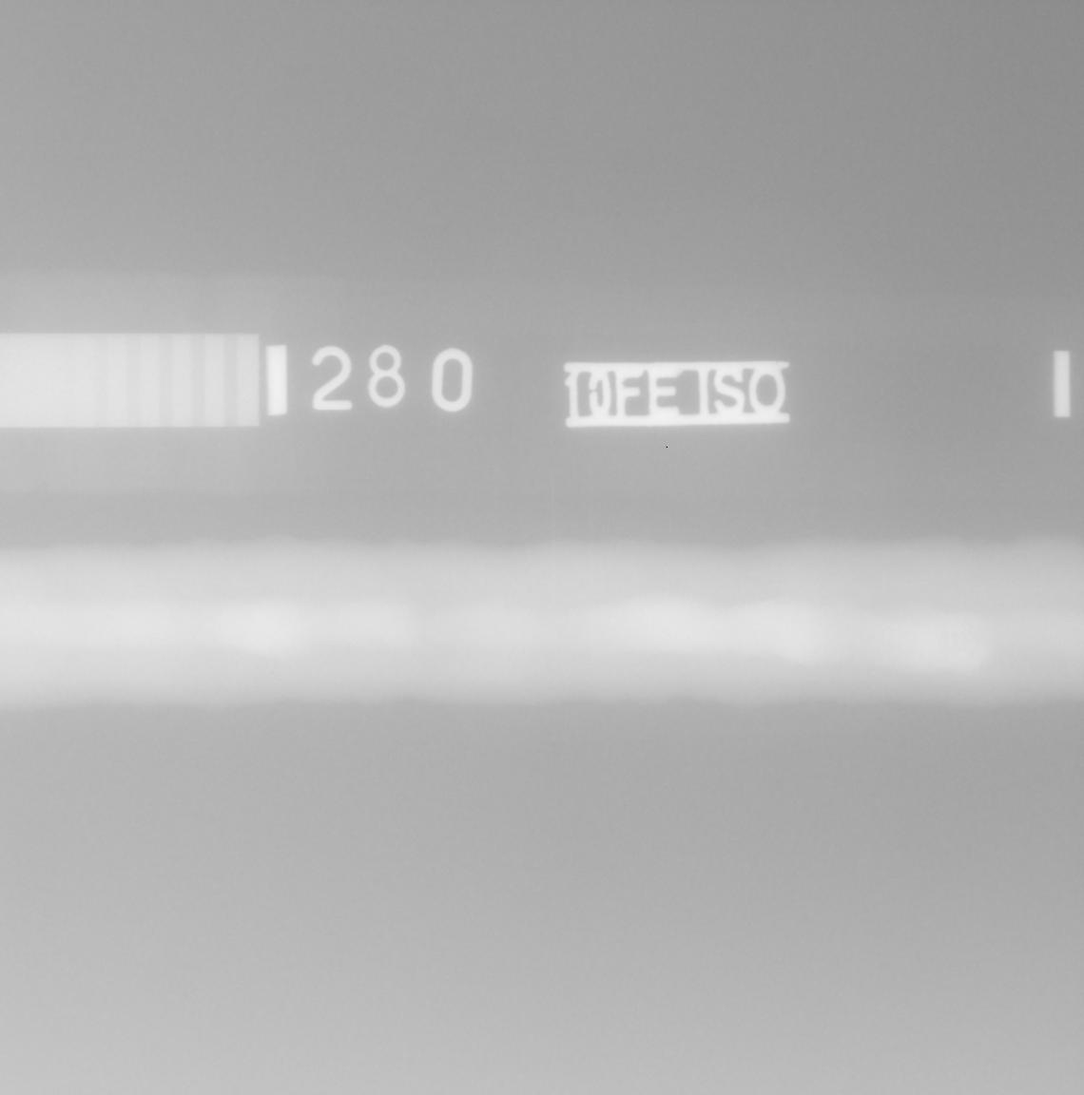Pore/Porosity: (951, 639, 970, 652), (971, 633, 984, 642), (961, 631, 972, 639), (941, 632, 949, 639), (951, 633, 957, 638), (968, 650, 973, 655), (943, 641, 948, 645), (975, 642, 979, 646)
